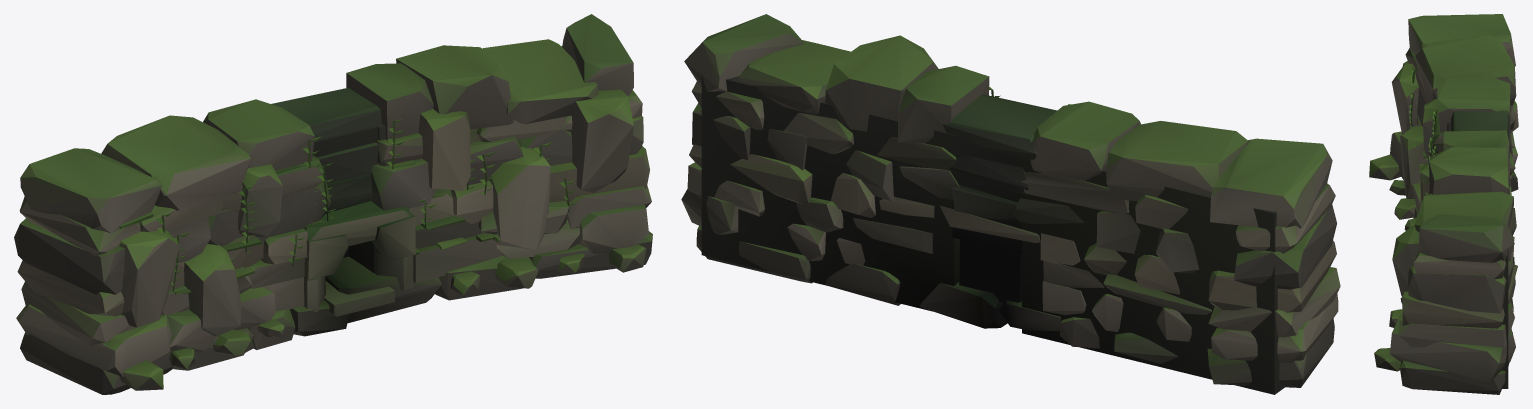
The model's file is cave-cliff.glb.
3 renders of one model, left to right at view 1: azimuth 30°, elevation 25°; view 2: azimuth 150°, elevation 25°; view 3: azimuth 270°, elevation 25°, orthographic. The views are drawn at different scales.
Visible parts, largest first — view 1: cliff, cave_floor; view 2: cliff; view 3: cliff.
Part boxes in pixels (bbox=[...]): cliff: bbox=[14, 14, 652, 394]; cave_floor: bbox=[324, 281, 394, 316]; cliff: bbox=[681, 14, 1340, 394]; cliff: bbox=[1369, 14, 1518, 394].
Size of what is drawn, in the model's own units: 32.93 by 11.49 by 8.79.
